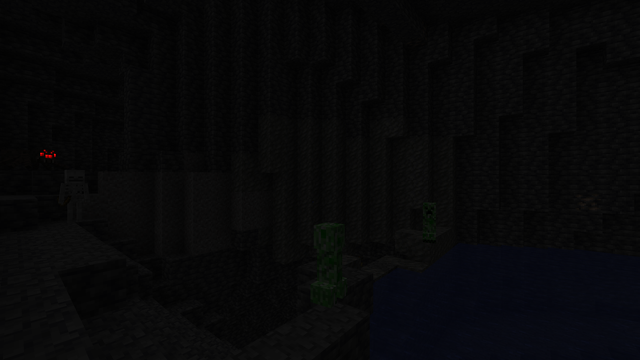araignees: (5, 144, 59, 170)
creepers: (310, 218, 348, 307), (420, 200, 438, 242)
squelettes: (62, 169, 85, 223)
